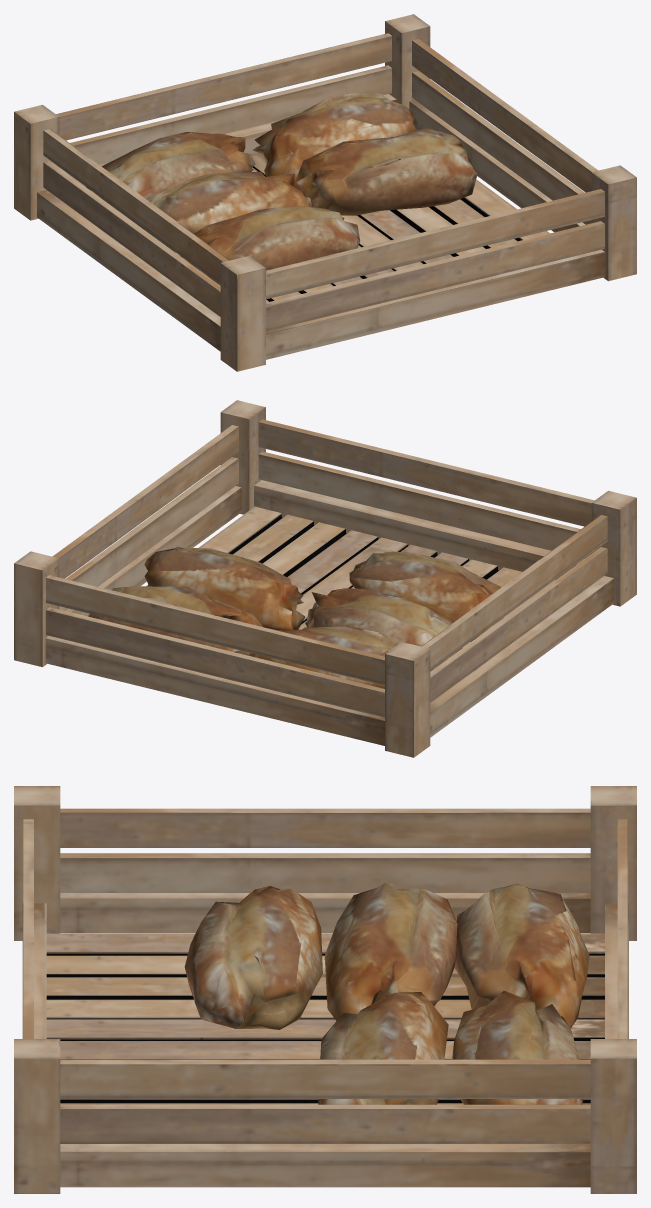
Rendered from MS_BreadStack5.fbx.
The picture shows the model from 3 angles, top to bottom: view 1: azimuth 30°, elevation 25°; view 2: azimuth 150°, elevation 25°; view 3: azimuth 270°, elevation 25°; orthographic projection. The views are drawn at different scales.
Parts seen in each view (by area): view 1: Cube.004; view 2: Cube.004; view 3: Cube.004.
Boxes of the visible parts, left/top/right/bottom form: Cube.004: left=14, top=14, right=636, bottom=371; Cube.004: left=14, top=400, right=636, bottom=757; Cube.004: left=14, top=786, right=636, bottom=1193.
Size of the model in its own units: 903 by 209 by 872.
Materials: 1 (1 with a texture image).
